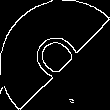O_SE: (21, 21, 89, 89)
